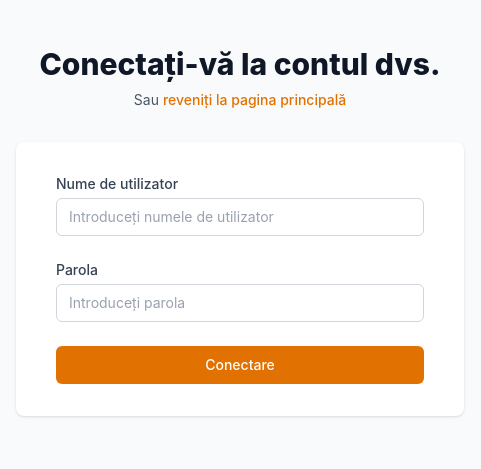
Test: LoginPage › shows validation error for empty fields
Click the button "Conectare" at (240, 365), box [56,346,424,384]
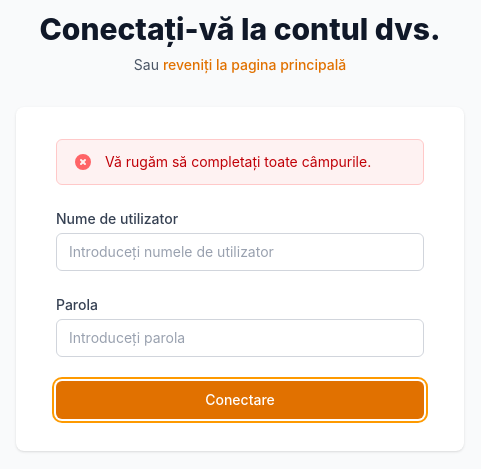
Expected: the text "Vă rugăm să completați toate câmpurile." is shown, [105,152,371,172]
